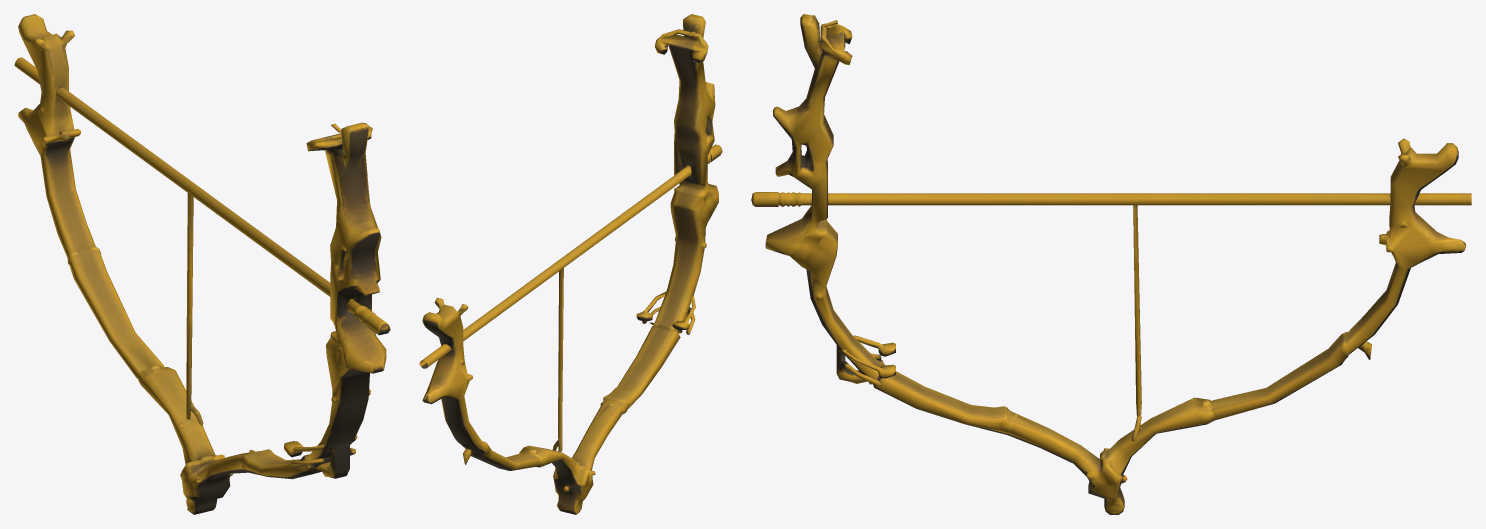
File: wolfsinew_bow.glb
3 renders of one model, left to right at view 1: azimuth 30°, elevation 25°; view 2: azimuth 150°, elevation 25°; view 3: azimuth 270°, elevation 25°, orthographic. The views are drawn at different scales.
Visible parts, largest first — view 1: base_model_path; view 2: base_model_path; view 3: base_model_path.
Boxes of the visible parts, left/top/right/bottom form: base_model_path: left=14, top=14, right=390, bottom=514; base_model_path: left=419, top=14, right=722, bottom=514; base_model_path: left=751, top=14, right=1471, bottom=514.
Bounding box in the file's own units: 0.0959 × 0.7358 × 0.9746.
1 material, 1 textured.
